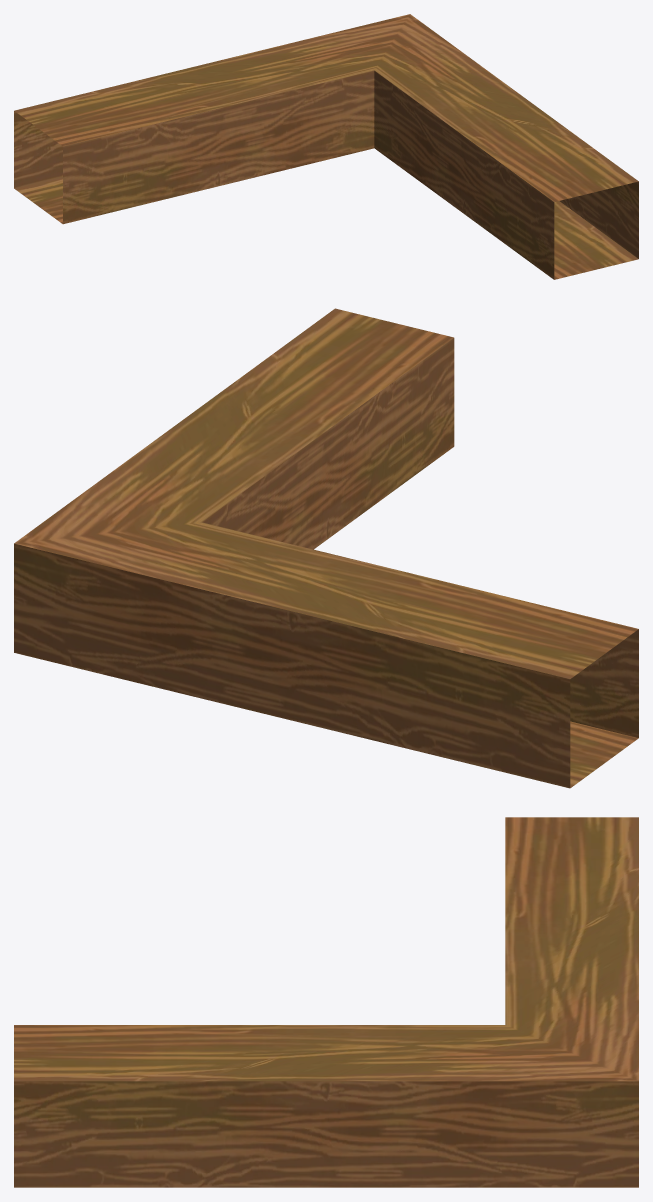
The model's file is HoleCover_90Half.glb.
3 views of the same model, one above another, from view 1: azimuth 30°, elevation 25°; view 2: azimuth 150°, elevation 25°; view 3: azimuth 270°, elevation 25° (orthographic). The views are drawn at different scales.
Visible parts, largest first — view 1: HoleCover_90Half; view 2: HoleCover_90Half; view 3: HoleCover_90Half.
Part boxes in pixels (x1,y1,x2,y2): HoleCover_90Half: [14, 14, 638, 279]; HoleCover_90Half: [14, 308, 638, 788]; HoleCover_90Half: [14, 817, 638, 1187].
Size of the model in its own units: 1.12 by 0.2101 by 1.12.
1 material, 1 textured.
